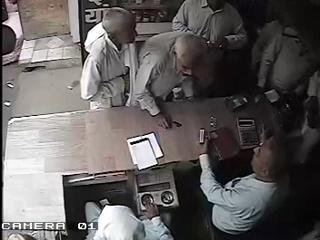Normal: (197, 128, 292, 240), (128, 31, 200, 129), (252, 0, 318, 96), (86, 194, 174, 240), (172, 0, 250, 51), (236, 117, 260, 150)
shoplifting: (80, 7, 138, 110)
